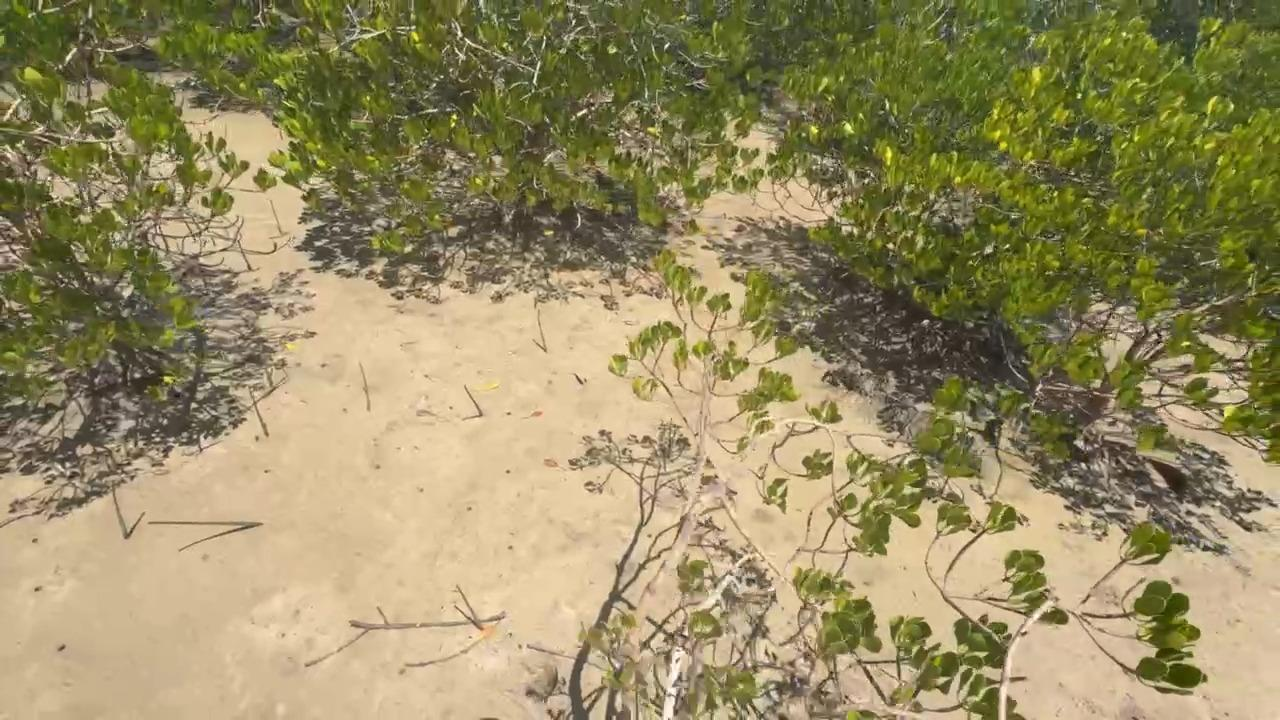Tree: (455, 584, 481, 629), (248, 387, 268, 437), (112, 480, 128, 538), (148, 520, 261, 528), (464, 383, 483, 416), (358, 362, 370, 411), (269, 199, 283, 235), (237, 239, 252, 271), (537, 309, 547, 351)
